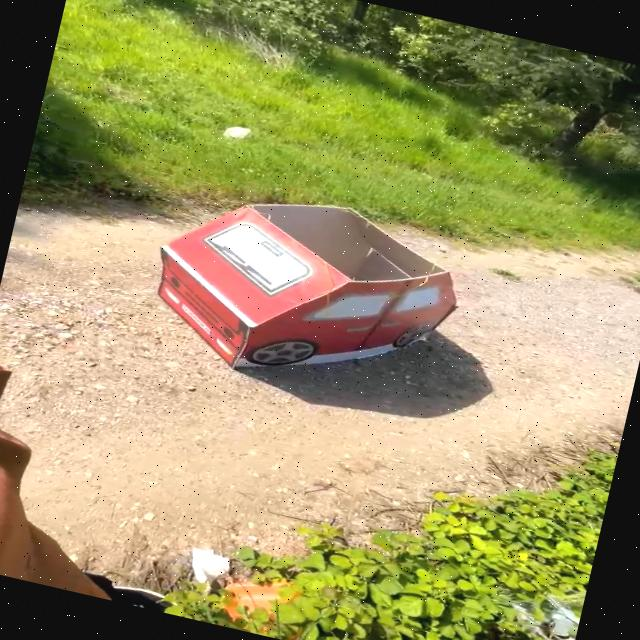red_car: (97, 147, 497, 439)
